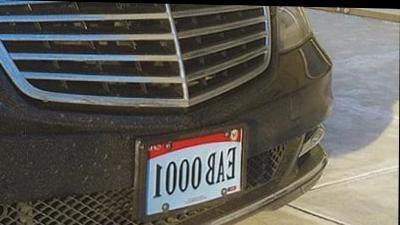License_Plate: (147, 124, 248, 212)
